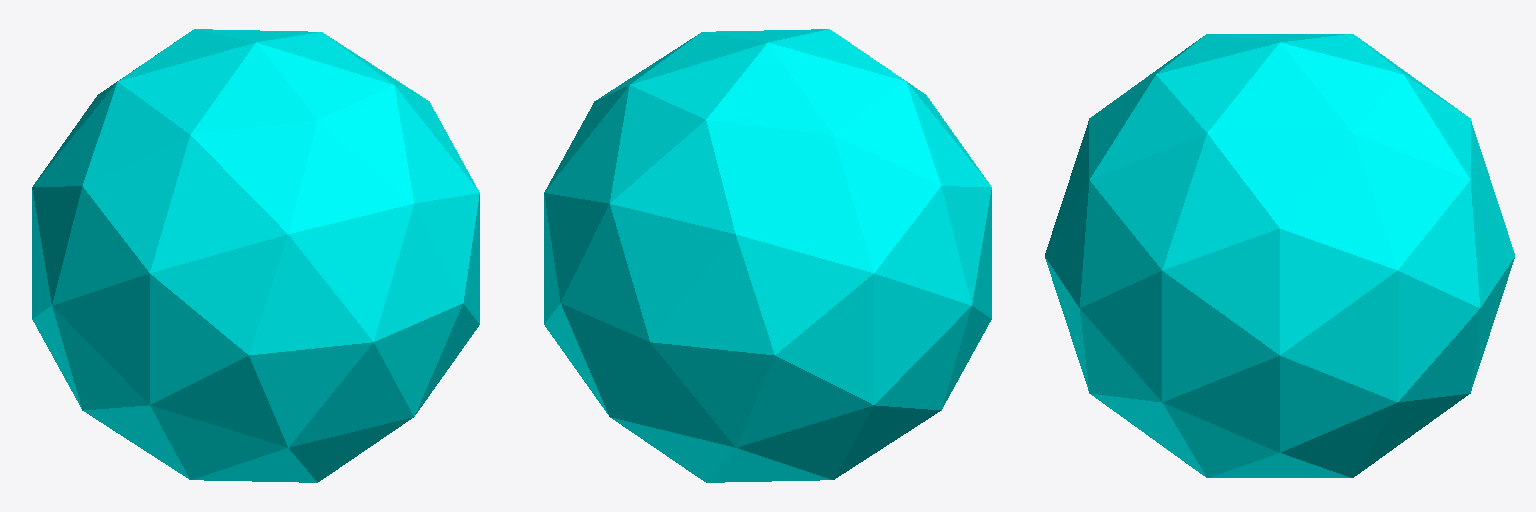
The model's file is polytope-ball-only.obj.
3 renders of one model, left to right at view 1: azimuth 30°, elevation 25°; view 2: azimuth 150°, elevation 25°; view 3: azimuth 270°, elevation 25°, orthographic.
Visible parts, largest first — view 1: mergedBlocks; view 2: mergedBlocks; view 3: mergedBlocks.
Boxes of the visible parts, box(x1,y1,x2,y2) form: mergedBlocks: box(32, 29, 479, 482); mergedBlocks: box(544, 29, 991, 482); mergedBlocks: box(1045, 34, 1514, 477).
Size of the model in its own units: 1 by 1 by 1.